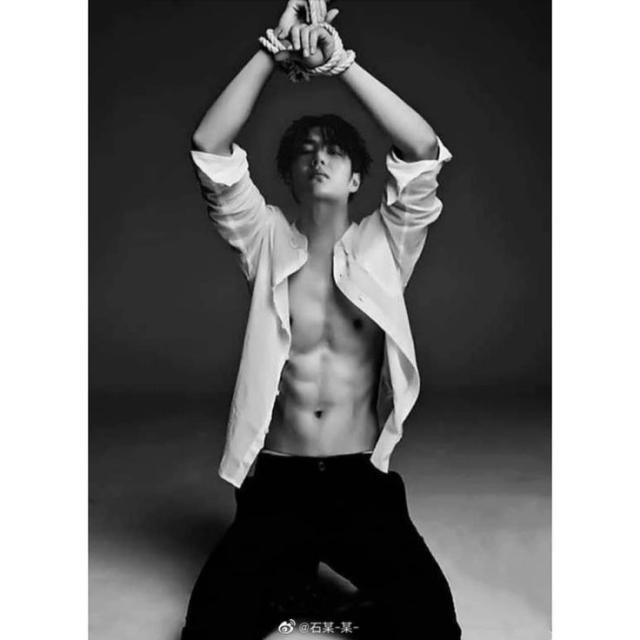sit: (205, 9, 526, 640)
